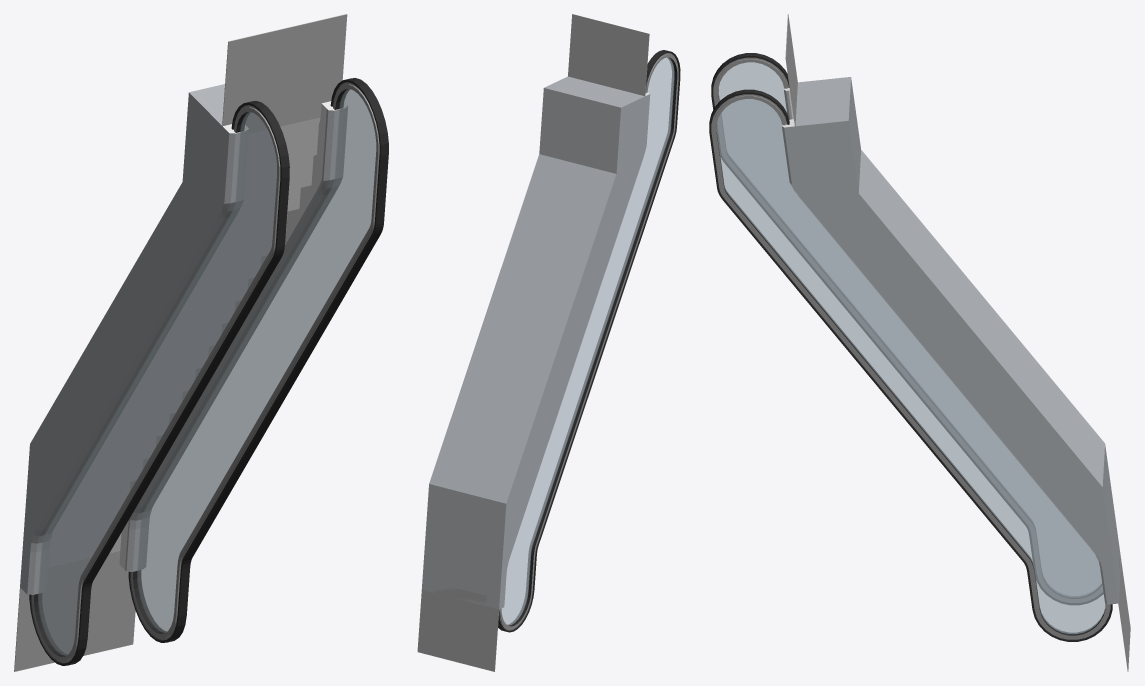
Rendered from Thang bộ đơn.glb.
3 renders of one model, left to right at view 1: azimuth 30°, elevation 25°; view 2: azimuth 150°, elevation 25°; view 3: azimuth 270°, elevation 25°, orthographic. The views are drawn at different scales.
Visible parts, largest first — view 1: world; view 2: world; view 3: world.
Part boxes in pixels (<box>): world: <box>14,14,388,671</box>; world: <box>417,14,680,671</box>; world: <box>709,14,1130,671</box>.
Size of the model in its own units: 139 by 836 by 523.
